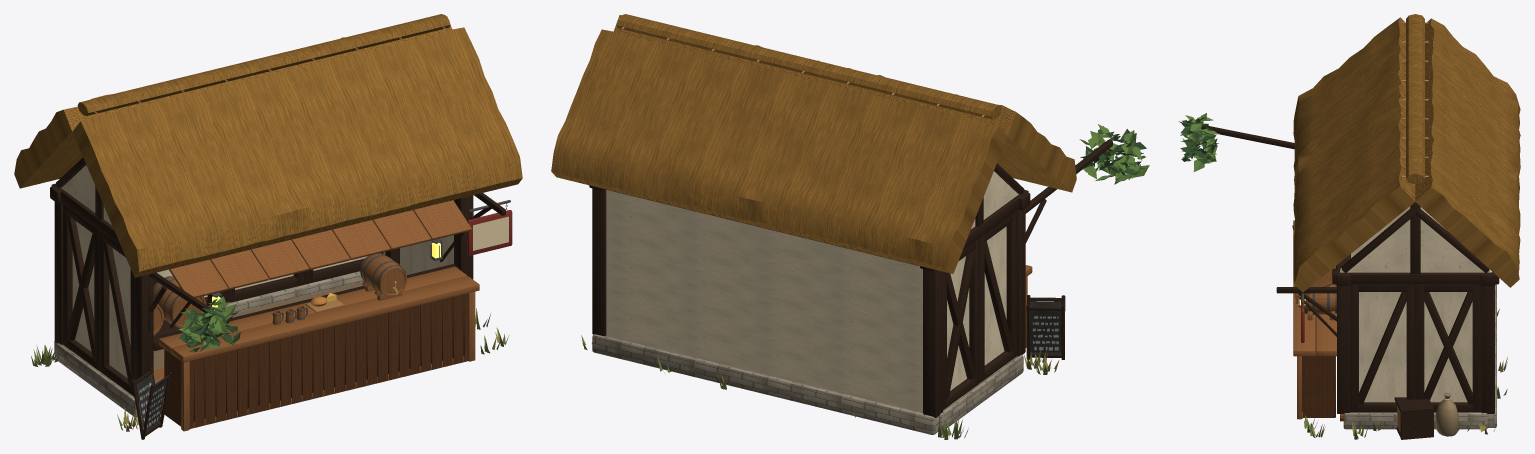
Rendered from tavern-tudor.glb.
3 views of the same model, side by side, from view 1: azimuth 30°, elevation 25°; view 2: azimuth 150°, elevation 25°; view 3: azimuth 270°, elevation 25° (orthographic). The views are drawn at different scales.
Visible parts, largest first — view 1: tavern_tudor, sign_face; view 2: tavern_tudor; view 3: tavern_tudor.
Boxes of the visible parts, <box> form: tavern_tudor: <box>14,14,522,439</box>; sign_face: <box>473,216,508,250</box>; tavern_tudor: <box>551,14,1149,439</box>; tavern_tudor: <box>1179,14,1520,439</box>.
Bounding box in the file's own units: 8.98 × 6.29 × 7.44.
22 materials, 10 textured.
